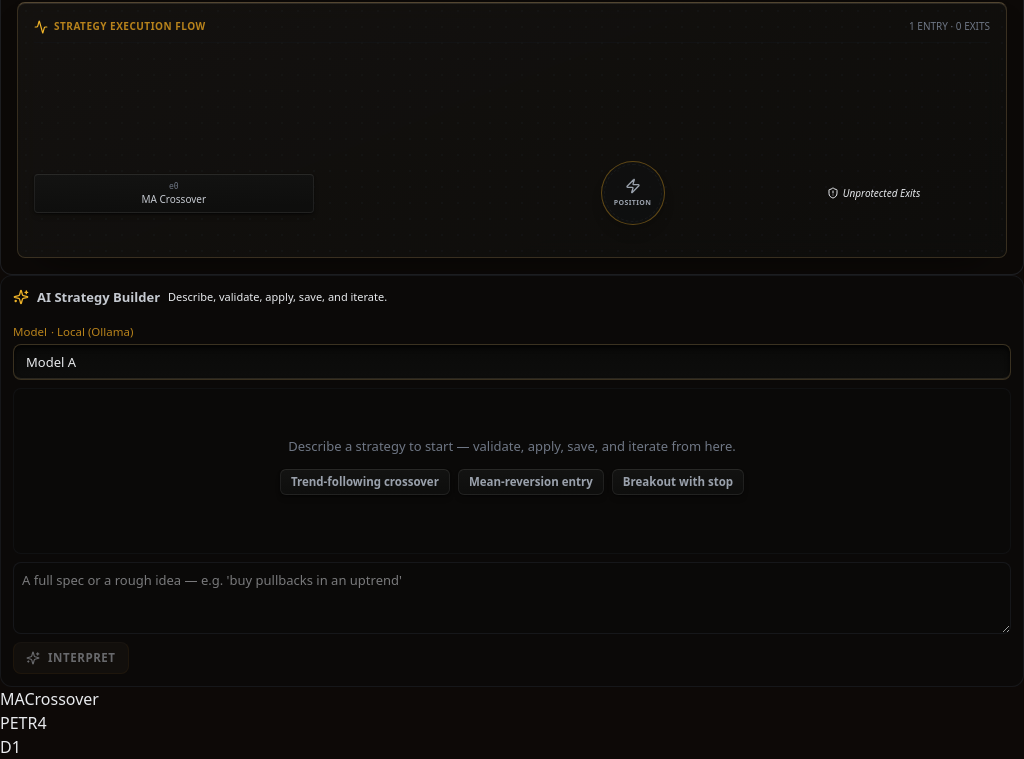
Scenario: AiStrategyPanel in StrategyStudio › submits a prompt to the interpret endpoint
(page scrolled)
Expected: the element with test id "ai-strategy-panel" is shown, [0,275,1023,687]
Type "Create a trend strategy using EMA 20 and EMA 50." into the text box with test id "ai-strategy-message" at (512, 598), box [13,562,1011,634]
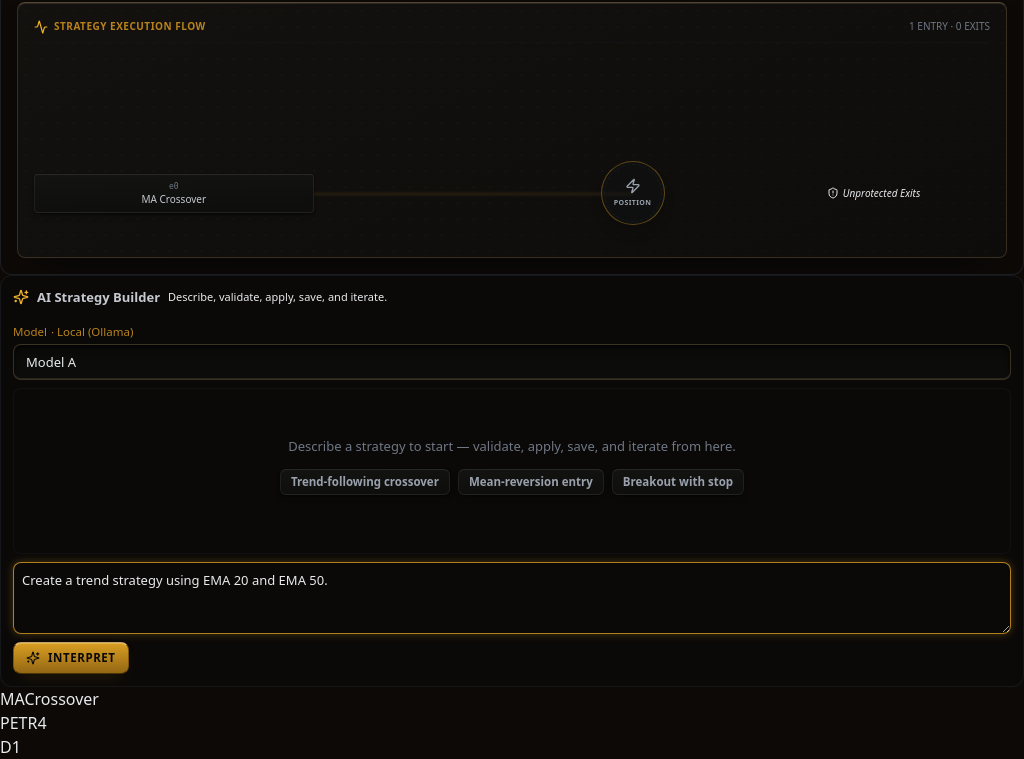
Click the button with test id "ai-strategy-submit" at (71, 658), box [13,642,129,674]
(page scrolled)
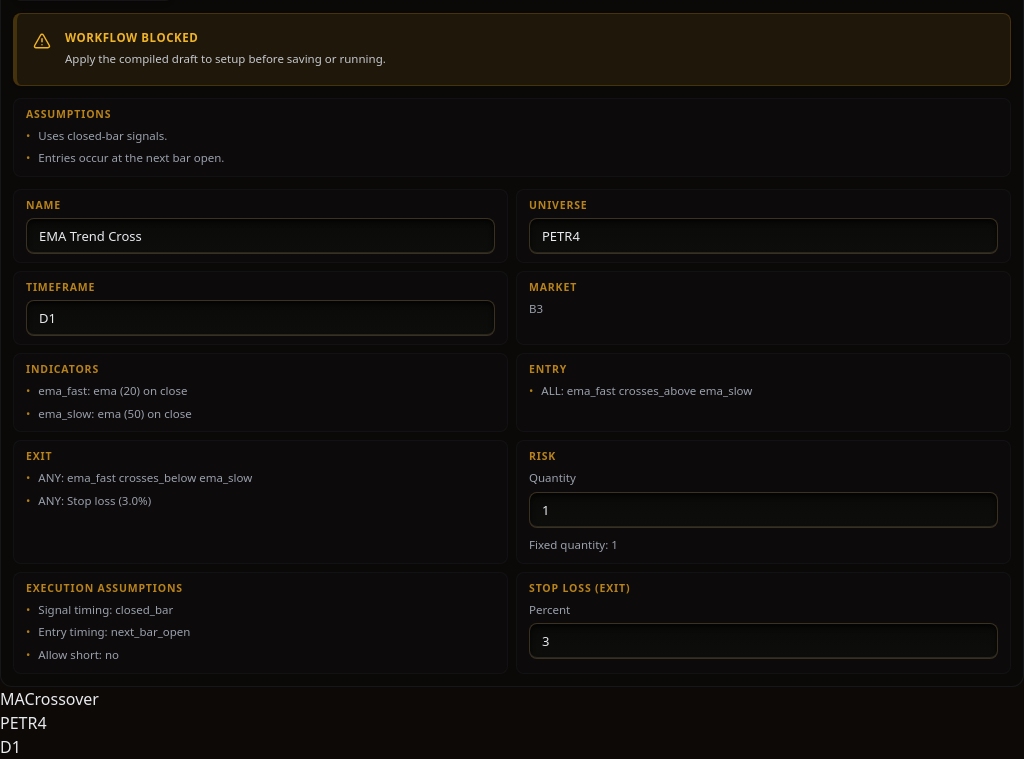
Result: the element with test id "ai-strategy-results" is shown
